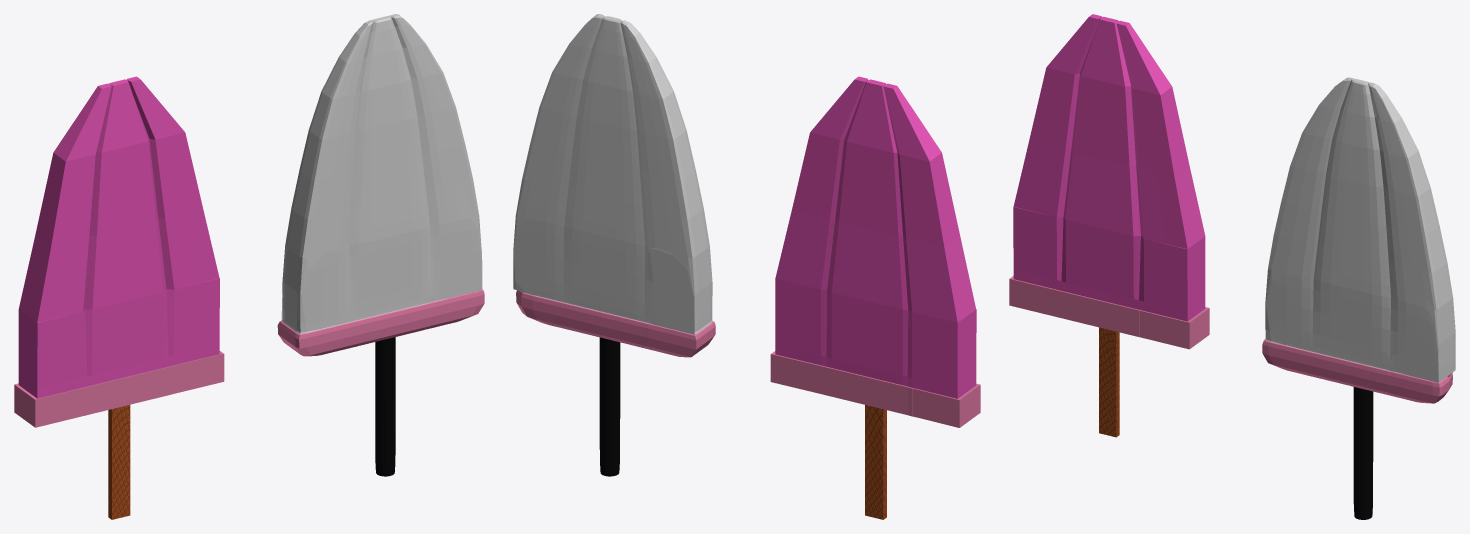
File: Albero2_2.fbx
3 renders of one model, left to right at view 1: azimuth 30°, elevation 25°; view 2: azimuth 150°, elevation 25°; view 3: azimuth 330°, elevation 25°, orthographic. The views are drawn at different scales.
Parts seen in each view (by area): view 1: Ghiacciolo, Ghiacciolo.001, Cylinder, Cube; view 2: Ghiacciolo, Ghiacciolo.001, Cylinder, Cube; view 3: Ghiacciolo, Ghiacciolo.001, Cylinder, Cube.
Boxes of the visible parts, left/top/right/bottom form: Ghiacciolo: left=14, top=76, right=224, bottom=427; Ghiacciolo.001: left=277, top=14, right=484, bottom=356; Cylinder: left=375, top=337, right=395, bottom=476; Cube: left=108, top=405, right=130, bottom=519; Ghiacciolo: left=770, top=76, right=980, bottom=427; Ghiacciolo.001: left=513, top=14, right=715, bottom=357; Cylinder: left=599, top=337, right=620, bottom=476; Cube: left=865, top=405, right=886, bottom=519; Ghiacciolo: left=1009, top=14, right=1209, bottom=349; Ghiacciolo.001: left=1262, top=77, right=1455, bottom=403; Cylinder: left=1353, top=387, right=1373, bottom=519; Cube: left=1099, top=327, right=1119, bottom=437.
Size of the model in its own units: 1434 by 1381 by 116.
Materials: 5 (1 with a texture image).
